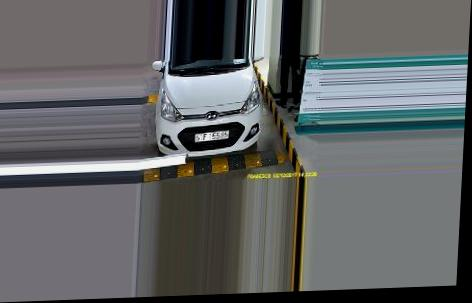License_Plate: (194, 129, 232, 141)
